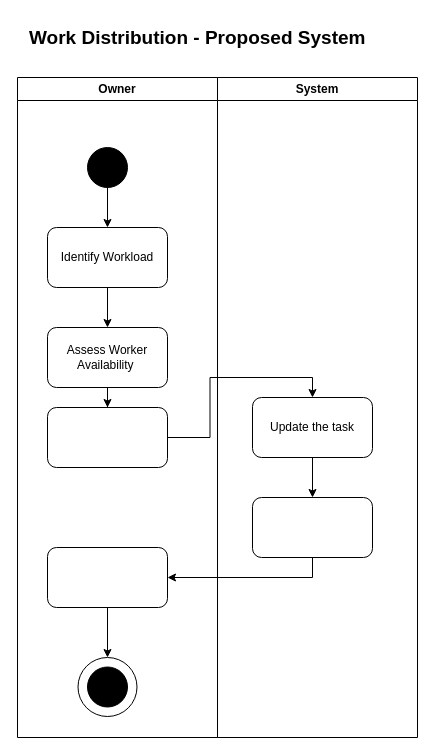
The diagram is 435 pixels wide and 755 high, and some of its shapes have lost their labels. Each missing label, with the box of its shape:
Allocate Tasks Based on Priority: (46, 406, 168, 468)
automatically sends massage to the assigned workers: (252, 496, 372, 558)
Monitor Task Progress: (46, 546, 168, 608)
